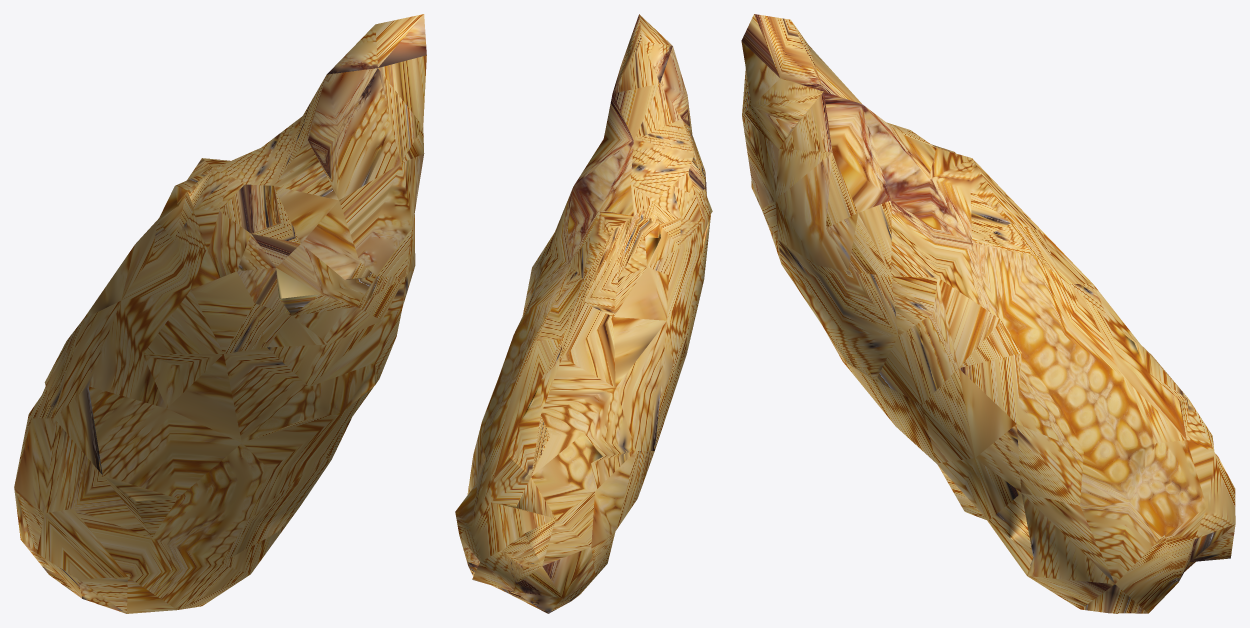
The model's file is corn.fbx.
3 renders of one model, left to right at view 1: azimuth 30°, elevation 25°; view 2: azimuth 150°, elevation 25°; view 3: azimuth 270°, elevation 25°, orthographic. The views are drawn at different scales.
Visible parts, largest first — view 1: corn 1.1; view 2: corn 1.1; view 3: corn 1.1.
Boxes of the visible parts, x1,y1,x2,y2 form: corn 1.1: [14, 14, 426, 613]; corn 1.1: [455, 14, 712, 613]; corn 1.1: [741, 14, 1235, 613].
Bounding box in the file's own units: 5.01 × 14.32 × 10.39.
Materials: 1 (1 with a texture image).
